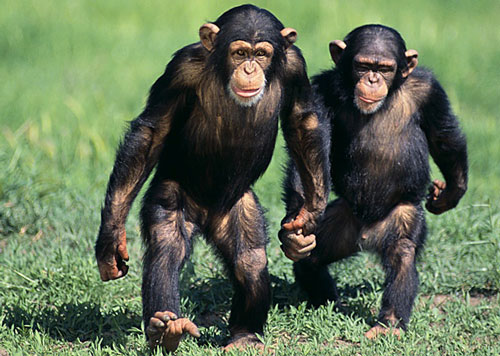Chimpanzee: (140, 4, 302, 348), (313, 12, 464, 329)
